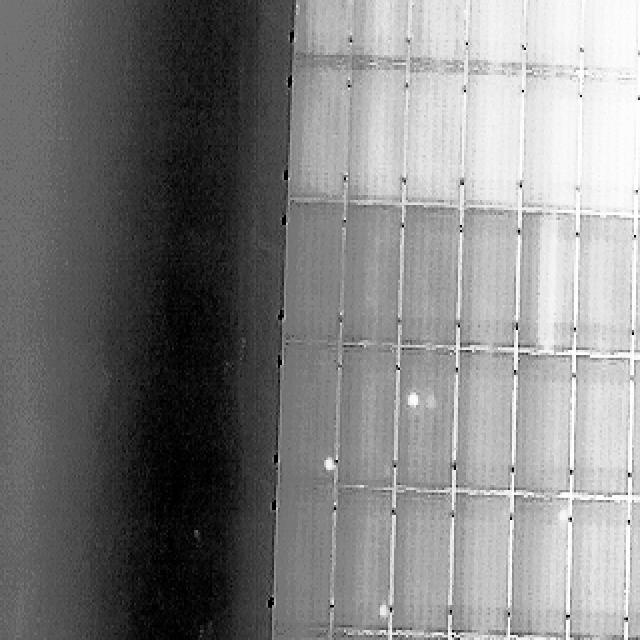Hotspots: (399, 384, 430, 407), (399, 392, 431, 413), (553, 502, 571, 525), (322, 456, 339, 478), (306, 635, 328, 640), (314, 637, 332, 640)
PV-modules: (399, 208, 462, 352), (514, 356, 576, 500), (341, 347, 403, 491), (510, 497, 572, 640), (338, 490, 398, 637), (347, 207, 408, 350), (572, 215, 633, 358), (446, 495, 506, 640), (574, 78, 636, 218), (570, 358, 630, 502), (397, 349, 457, 493), (566, 497, 626, 640), (451, 351, 510, 496), (519, 214, 579, 356), (393, 494, 452, 638), (279, 347, 338, 491), (273, 488, 331, 634), (286, 63, 346, 203), (282, 206, 341, 348), (351, 67, 411, 205), (456, 212, 514, 354), (405, 71, 465, 208), (458, 74, 517, 211), (523, 76, 580, 215), (576, 0, 639, 74), (465, 0, 526, 71), (524, 0, 585, 71), (405, 0, 466, 69), (345, 0, 407, 62), (292, 0, 353, 60), (630, 500, 640, 640), (634, 360, 640, 502), (636, 218, 640, 358), (332, 632, 392, 640), (386, 635, 448, 640), (636, 0, 640, 75), (268, 635, 326, 640), (638, 80, 640, 220), (442, 637, 502, 640)
